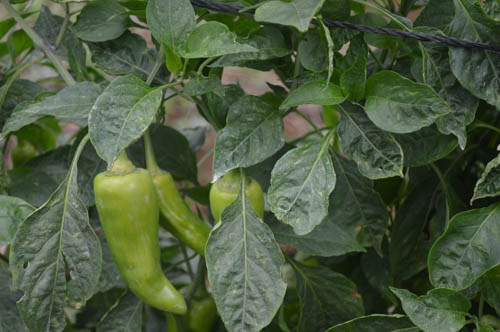ChiliPepper: (94, 171, 186, 316), (152, 168, 215, 255), (214, 175, 271, 253)
